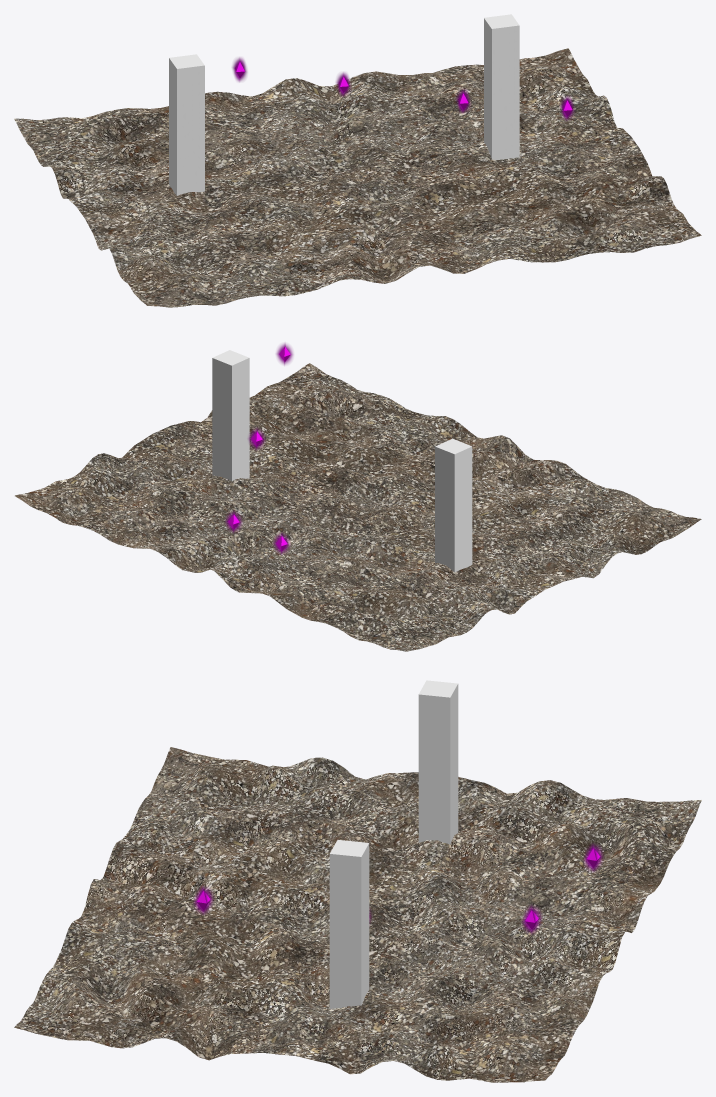
File: Ground_final.glb
3 renders of one model, top to bottom at view 1: azimuth 30°, elevation 25°; view 2: azimuth 150°, elevation 25°; view 3: azimuth 270°, elevation 25°, orthographic. The views are drawn at different scales.
Parts seen in each view (by area): view 1: 1, Cube001, Cube; view 2: 1, Cube, Cube001; view 3: 1, Cube001, Cube.
Part boxes in pixels (box(x1,y1,x2,y2)): 1: box(14, 48, 701, 307); Cube001: box(484, 14, 519, 159); Cube: box(169, 54, 204, 195); 1: box(14, 363, 701, 651); Cube: box(435, 438, 472, 572); Cube001: box(212, 350, 249, 481); 1: box(14, 747, 701, 1082); Cube001: box(329, 840, 369, 1008); Cube: box(418, 680, 458, 844).
Size of the model in its own units: 220 by 58.76 by 192.
Materials: 27 (21 with a texture image).
